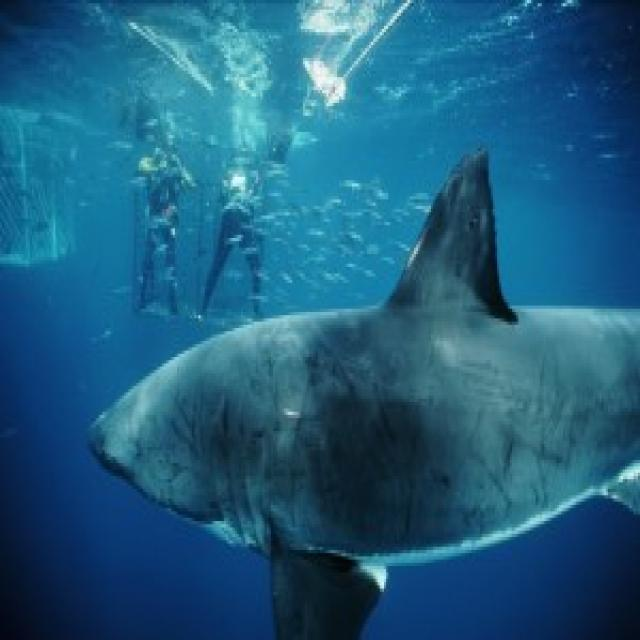Shark: (87, 146, 638, 639)
